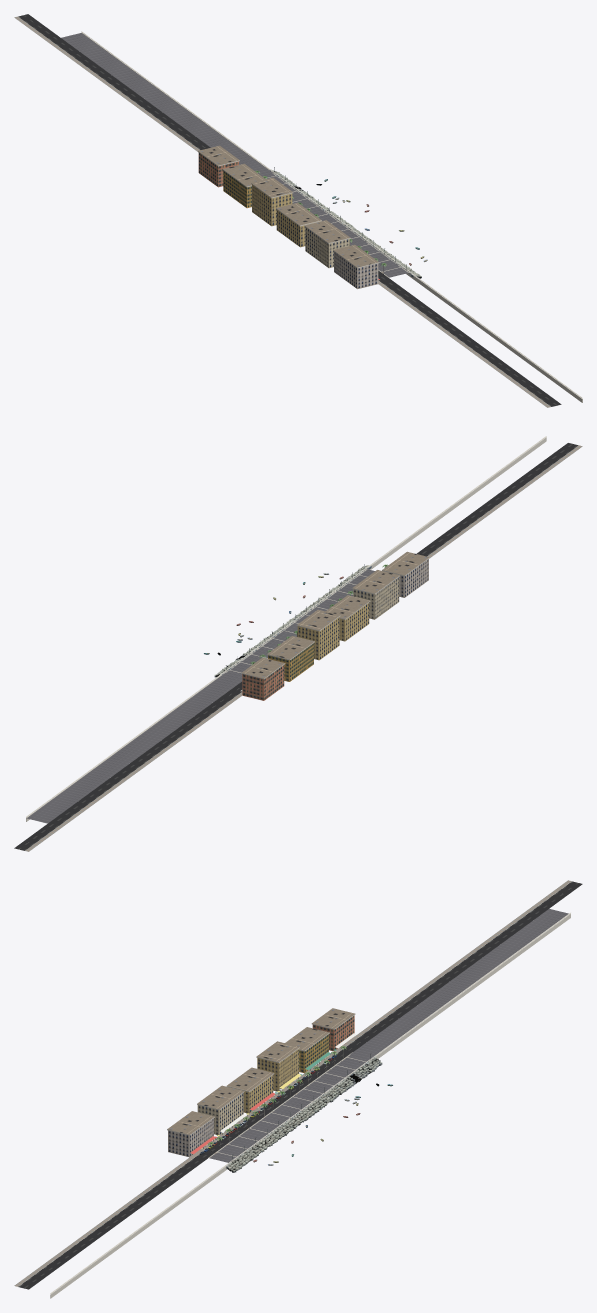
File: lugar-napoles.glb
The picture shows the model from 3 angles, top to bottom: view 1: azimuth 30°, elevation 25°; view 2: azimuth 150°, elevation 25°; view 3: azimuth 330°, elevation 25°; orthographic projection. The views are drawn at different scales.
Parts seen in each view (by area): view 1: luzE, luzG-cerca, suelo-paseo, vert-cerca; view 2: luzE, luzG-cerca, suelo-paseo, vert-cerca; view 3: luzG-cerca, luzE, vert-cerca, suelo-paseo.
Part boxes in pixels (<box>): luzE: <box>81,31,582,402</box>; luzG-cerca: <box>14,14,561,407</box>; suelo-paseo: <box>262,173,408,277</box>; vert-cerca: <box>255,167,427,278</box>; luzE: <box>26,436,546,821</box>; luzG-cerca: <box>14,443,582,851</box>; suelo-paseo: <box>226,569,374,676</box>; vert-cerca: <box>204,564,388,677</box>; luzG-cerca: <box>14,880,582,1289</box>; luzE: <box>50,912,570,1298</box>; vert-cerca: <box>199,1046,392,1172</box>; suelo-paseo: <box>209,1054,369,1162</box>.
Size of what is drawn, in the model's own units: 87.88 by 28.94 by 820.
33 materials, 12 textured.
